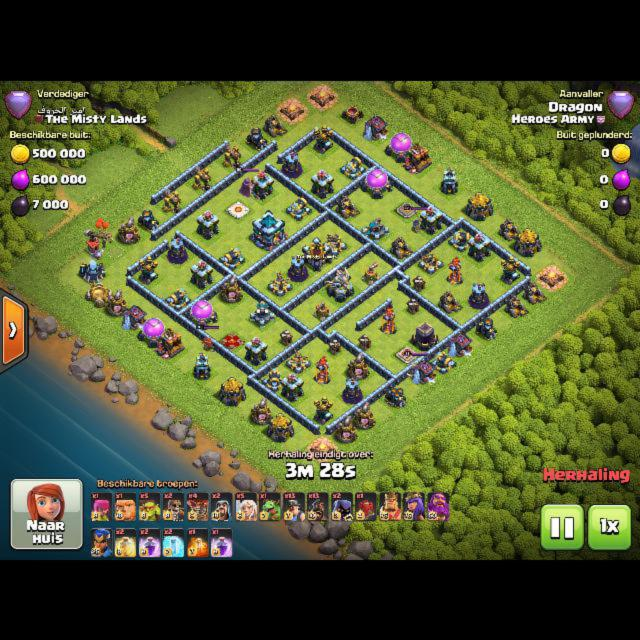AD: (313, 395, 333, 425), (313, 123, 333, 153), (500, 254, 520, 284), (138, 254, 158, 284)
AirSweeper: (361, 261, 379, 285), (313, 301, 332, 321)
BombTower: (194, 351, 211, 379), (441, 166, 457, 194)
Canon: (219, 247, 246, 270), (164, 287, 191, 310), (261, 367, 286, 391), (339, 156, 365, 179), (285, 197, 311, 220), (430, 351, 457, 373), (448, 229, 474, 251)
ClanCastle: (301, 236, 331, 270)
Eagle: (326, 267, 354, 302)
Inferno: (314, 357, 331, 384), (380, 307, 396, 334), (446, 257, 462, 284)
KingPad: (396, 346, 418, 363)
Mortar: (246, 126, 269, 150), (137, 208, 159, 231), (475, 317, 497, 339), (384, 386, 406, 408)
QueenPad: (220, 331, 244, 349)
RcPad: (398, 202, 417, 217)
Scattershot: (360, 217, 389, 242), (250, 300, 275, 327)
TH13: (252, 209, 285, 250)
WardenPad: (228, 201, 249, 217)
WizzTower: (282, 150, 302, 177), (288, 255, 308, 282), (343, 377, 362, 404), (469, 282, 488, 309), (168, 236, 187, 262)
Xbow: (267, 270, 293, 296), (321, 230, 347, 255), (285, 350, 311, 373), (418, 251, 444, 274)
